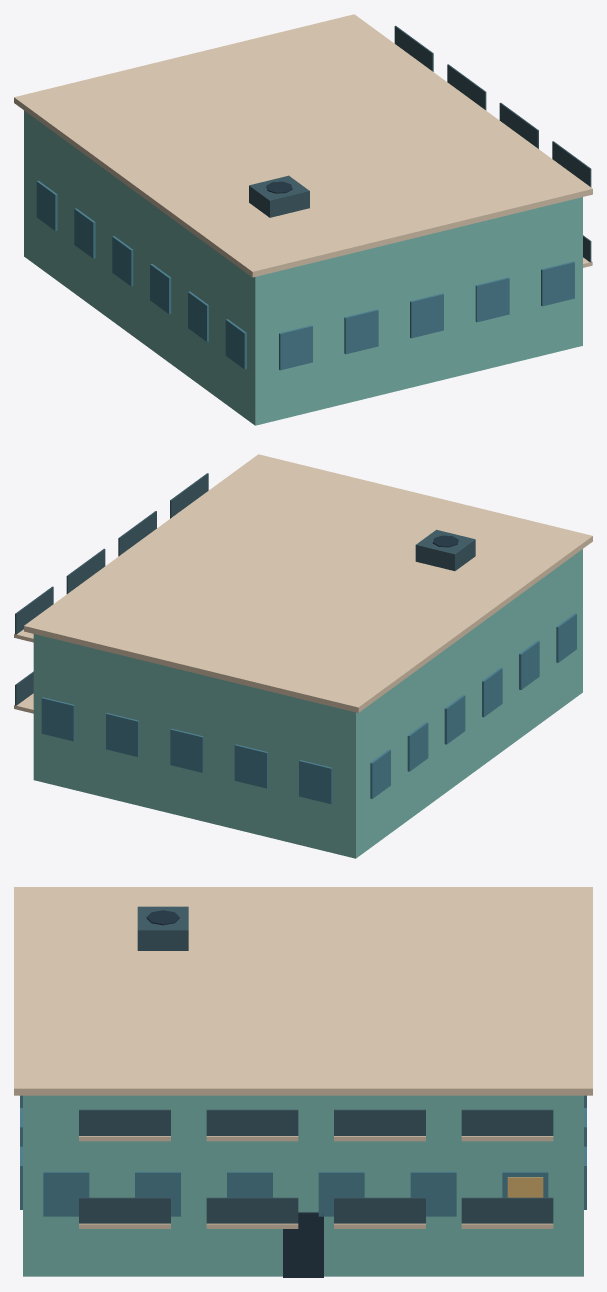
Rendered from building-motel.obj.
The picture shows the model from 3 angles, top to bottom: view 1: azimuth 30°, elevation 25°; view 2: azimuth 150°, elevation 25°; view 3: azimuth 270°, elevation 25°; orthographic projection. The views are drawn at different scales.
Parts seen in each view (by area): view 1: building-motel; view 2: building-motel; view 3: building-motel.
Boxes of the visible parts, x1,y1,x2,y2 form: building-motel: (14,14,592,425); building-motel: (14,454,592,858); building-motel: (14,887,592,1277).
Size of the model in its own units: 20.15 by 9.26 by 22.7.
